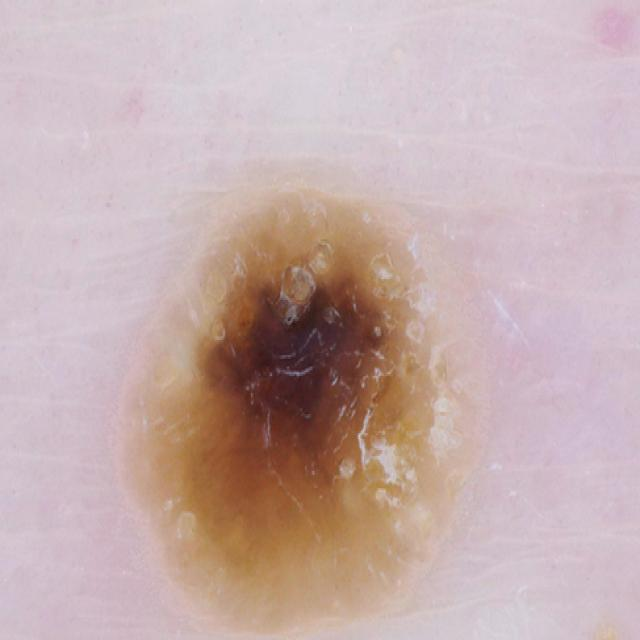Keratosis: (107, 144, 513, 640)
